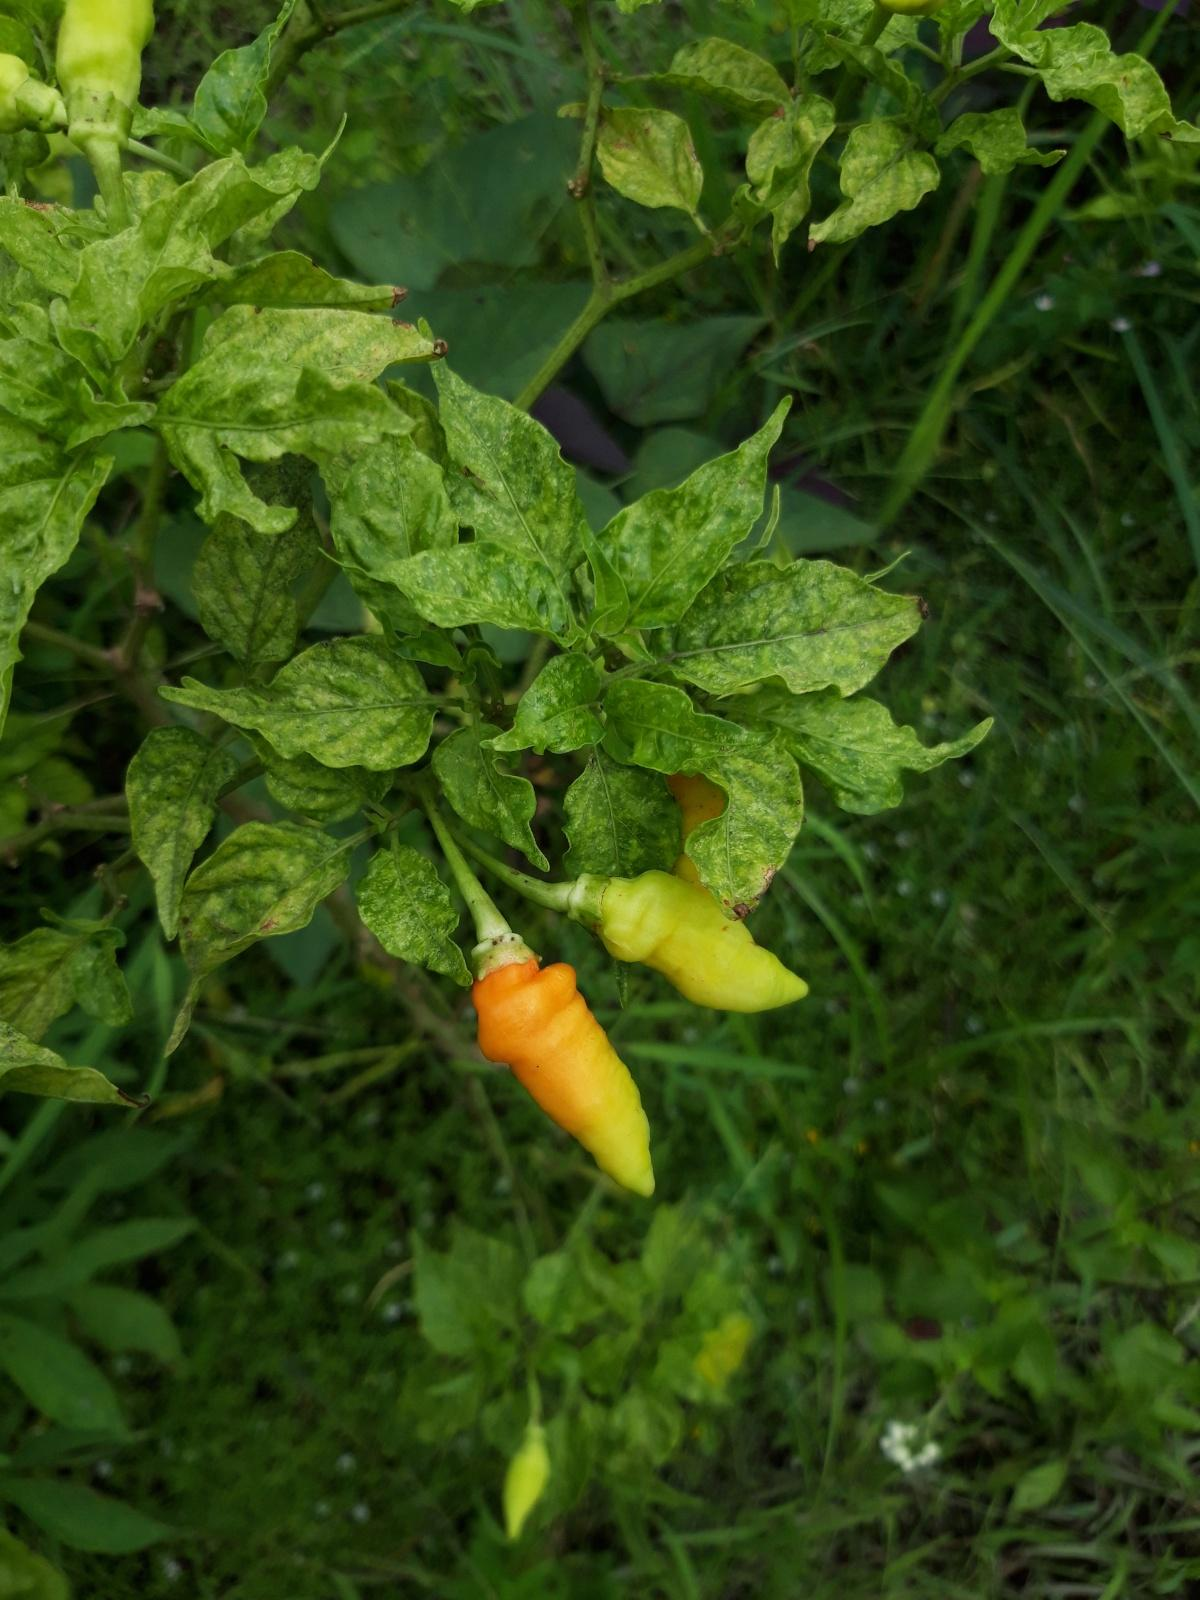cabai_normal: (469, 964, 658, 1197), (600, 868, 811, 1015)
